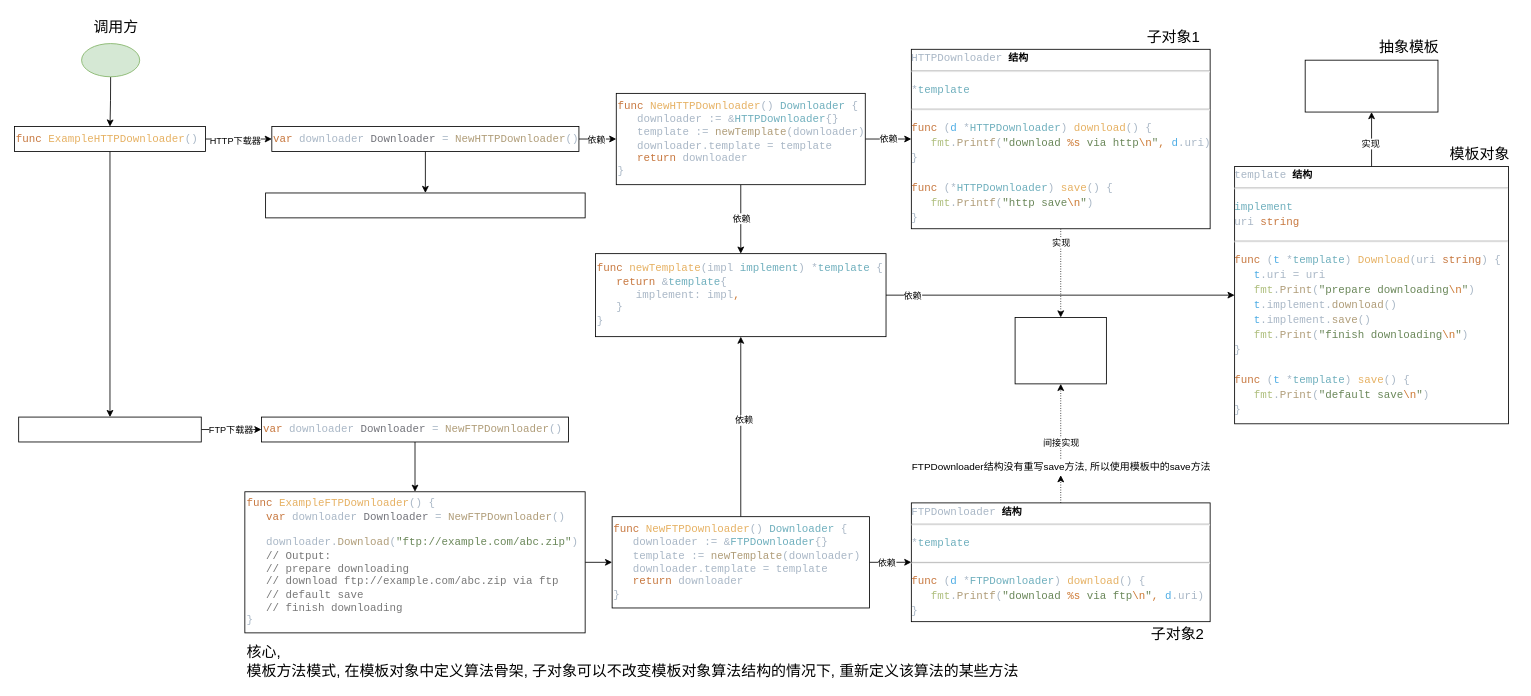
Image size: 1531x696. Some labels were removed from this diagram. The shapes that lost their labels are listed below. From the top down, each one's box as (x1, y1, x2, y2) in pixels, then its label:
(81, 43, 140, 77): client
(1304, 59, 1438, 112): Downloader 接口 Download (uri string )
(265, 192, 585, 218): downloader. Download ( "http://example.com/abc.zip" )
(1014, 317, 1106, 384): implement 接口 download () save ()
(18, 416, 201, 442): func ExampleFTPDownloader ()
